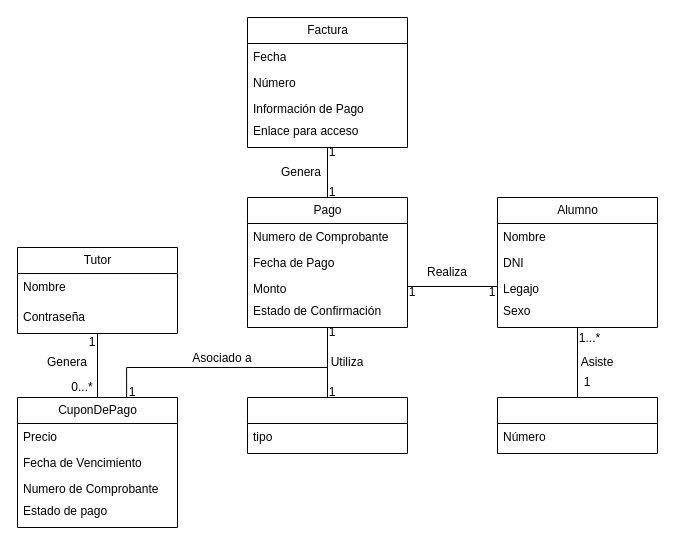
The diagram is 675 pixels wide and 548 high, and some of its shapes have lost their labels. The shapes that lost their labels are listed below. From the top down, each one's box as (x1, y1, x2, y2) in pixels, then its label:
(246, 396, 408, 454): MétodoDePago
(496, 396, 658, 454): Curso
